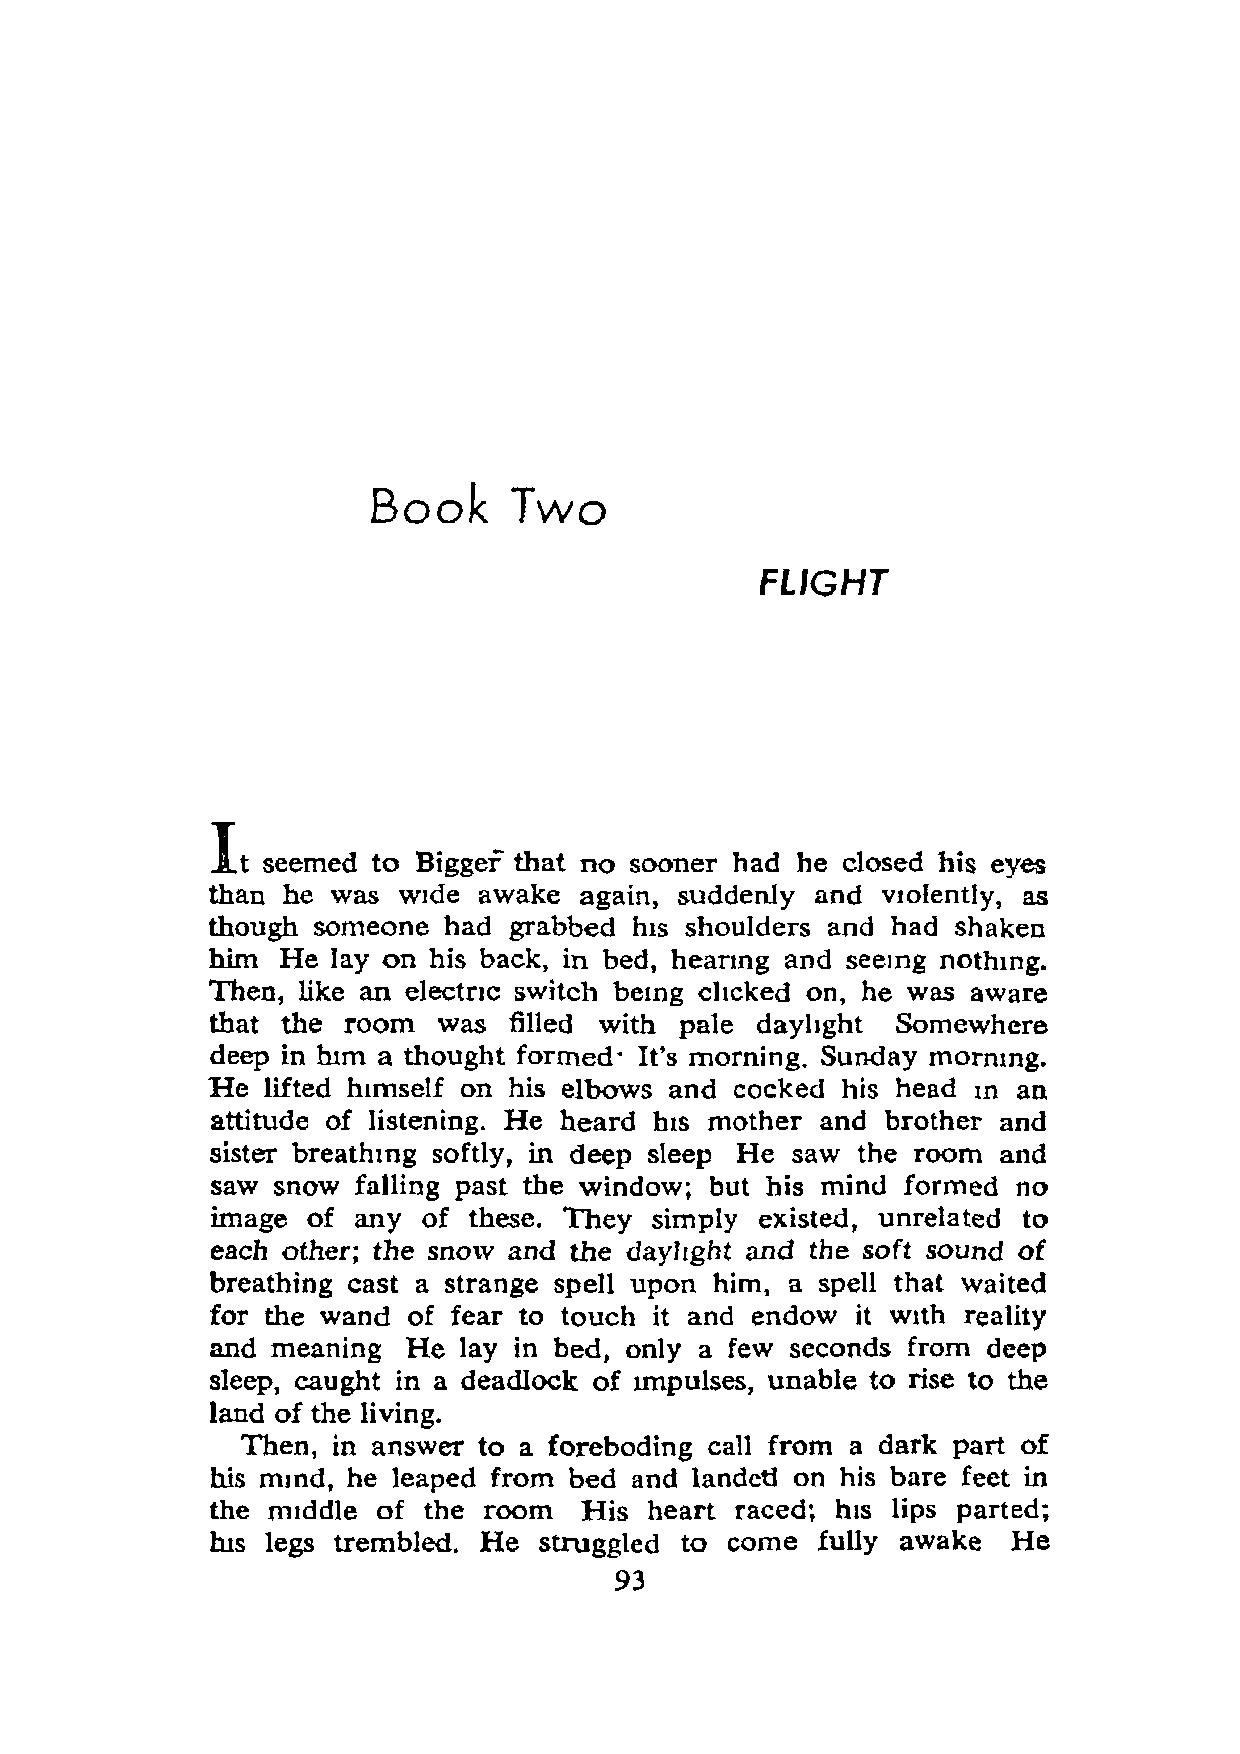chapter: (366, 480, 888, 600)
content: (203, 816, 1049, 1557)
content_pagenumber: (611, 1567, 645, 1593)
